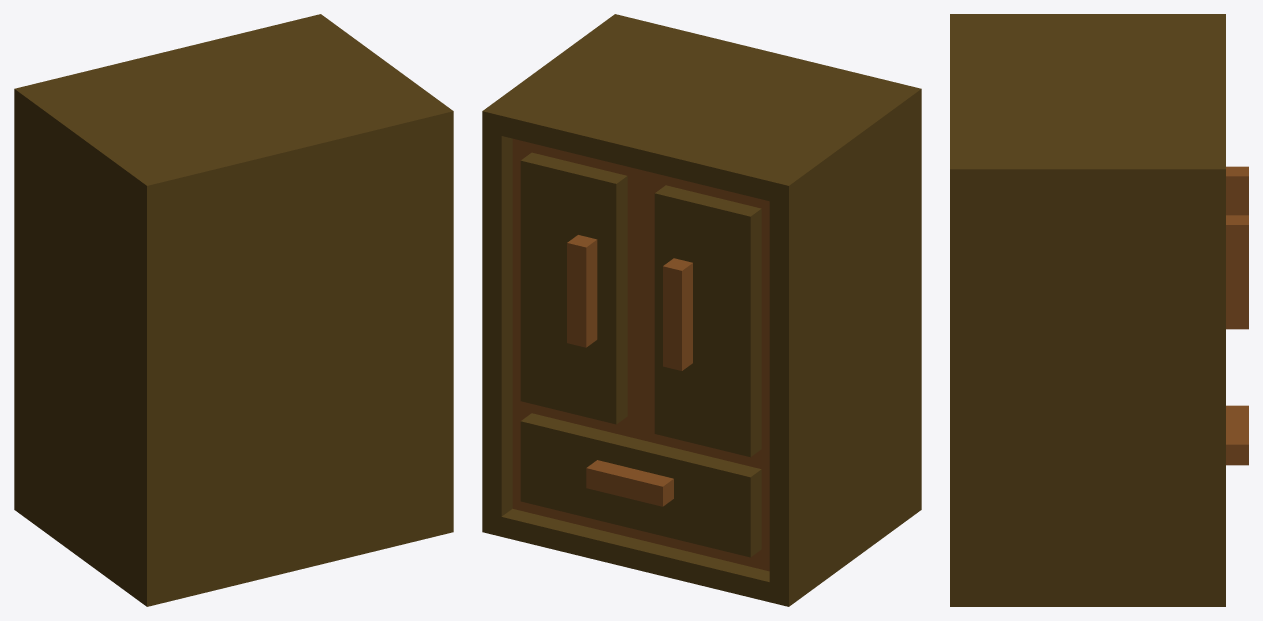
The model's file is Food_Shop-4.obj.
The picture shows the model from 3 angles, left to right: view 1: azimuth 30°, elevation 25°; view 2: azimuth 150°, elevation 25°; view 3: azimuth 270°, elevation 25°; orthographic projection. The views are drawn at different scales.
Size of the model in its own units: 1.6 by 2.1 by 1.3.
Materials: 1 (1 with a texture image).
